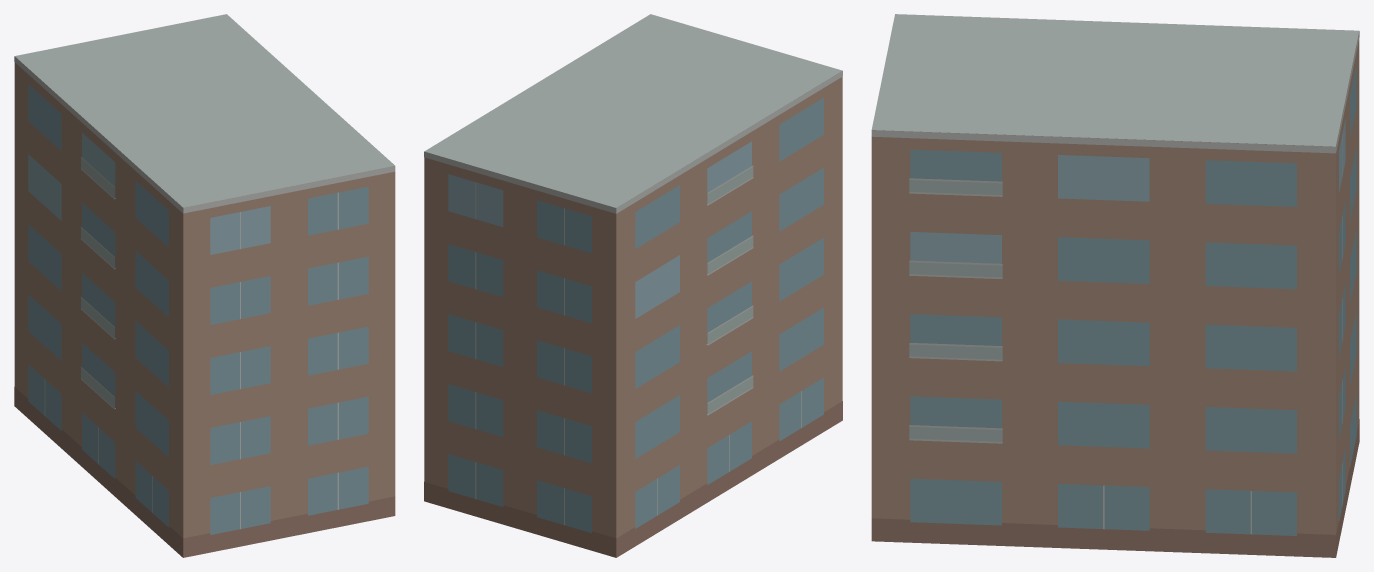
File: survey-upis-32868998.glb
3 views of the same model, side by side, from view 1: azimuth 30°, elevation 25°; view 2: azimuth 150°, elevation 25°; view 3: azimuth 270°, elevation 25° (orthographic). The views are drawn at different scales.
Visible parts, largest first — view 1: survey-upis-32868998.tmp; view 2: survey-upis-32868998.tmp; view 3: survey-upis-32868998.tmp.
Boxes of the visible parts, bbox=[...] form: survey-upis-32868998.tmp: bbox=[14, 14, 395, 557]; survey-upis-32868998.tmp: bbox=[424, 14, 842, 557]; survey-upis-32868998.tmp: bbox=[871, 14, 1359, 557].
Size of the model in its own units: 10.21 by 14.75 by 15.86.
